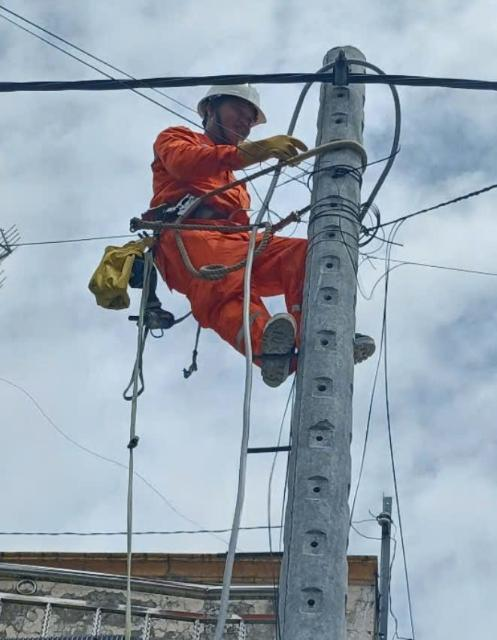gloves: (237, 133, 318, 166)
harness: (141, 189, 250, 233)
helmet: (200, 70, 279, 126)
shoes: (250, 313, 299, 396), (338, 330, 382, 364)
